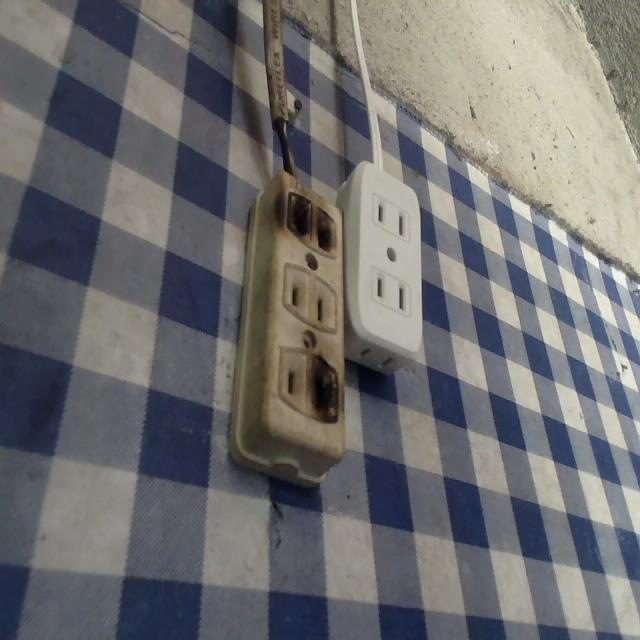-: (285, 190, 340, 258), (309, 348, 342, 424)
